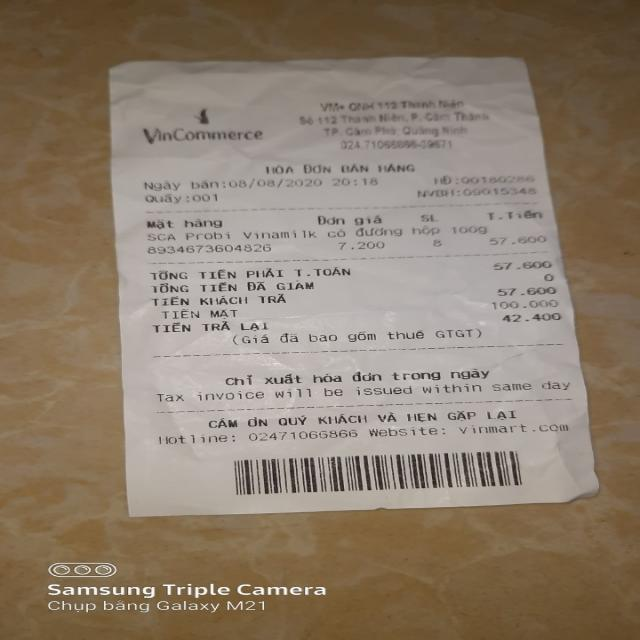Date: (227, 177, 326, 190)
Store_Name: (133, 123, 268, 145)
amount_number: (488, 258, 559, 272)
label_total: (144, 267, 353, 280)
